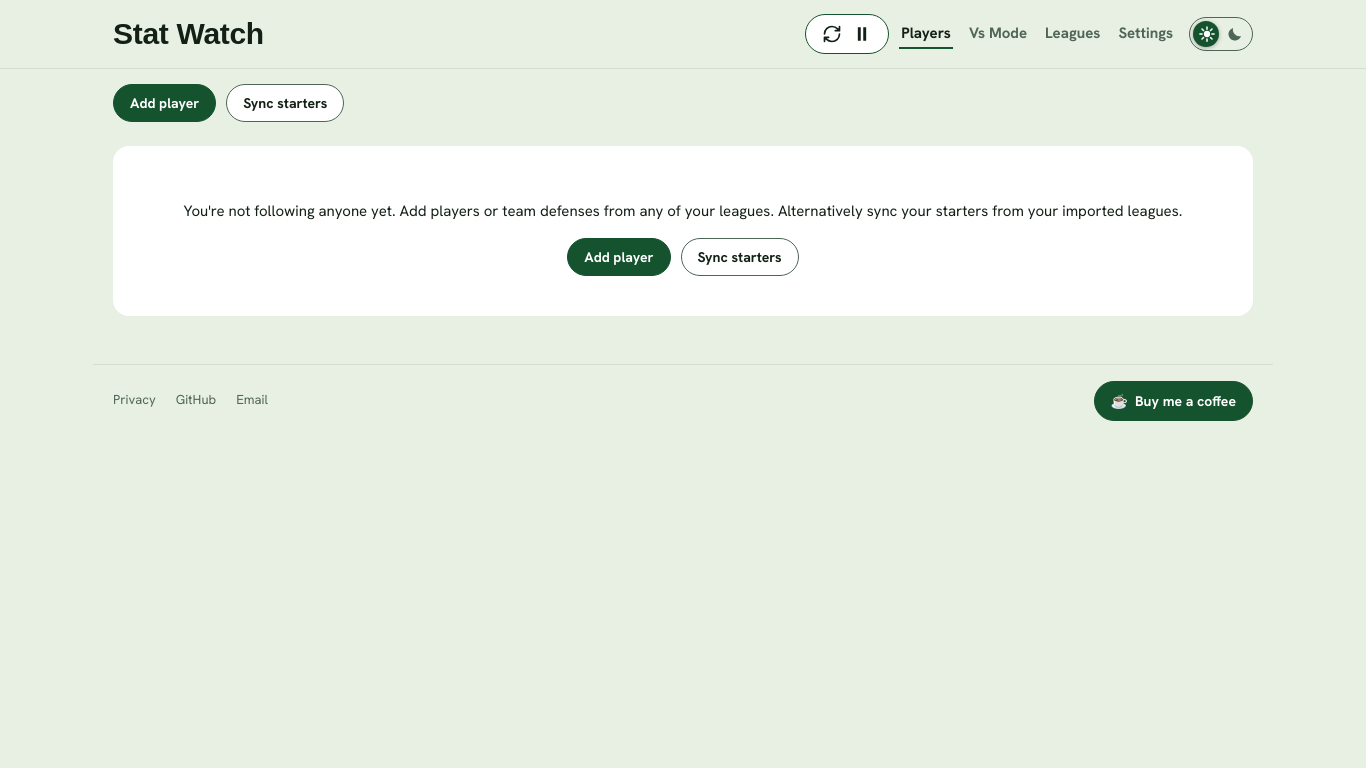
Test: with the mascot switched off, every page uses plain text › Players with leagues and nobody followed: the same sentence and both buttons, as plain text
Check: the element with class "empty" shows "You're not following anyone yet. Add players or team defenses from any of your leagues. Alternatively sync your starters from your imported leagues.", box [184,201,1182,221]
Click the 2nd button "Sync starters". click: (740, 257)
box: [680,238,799,276]
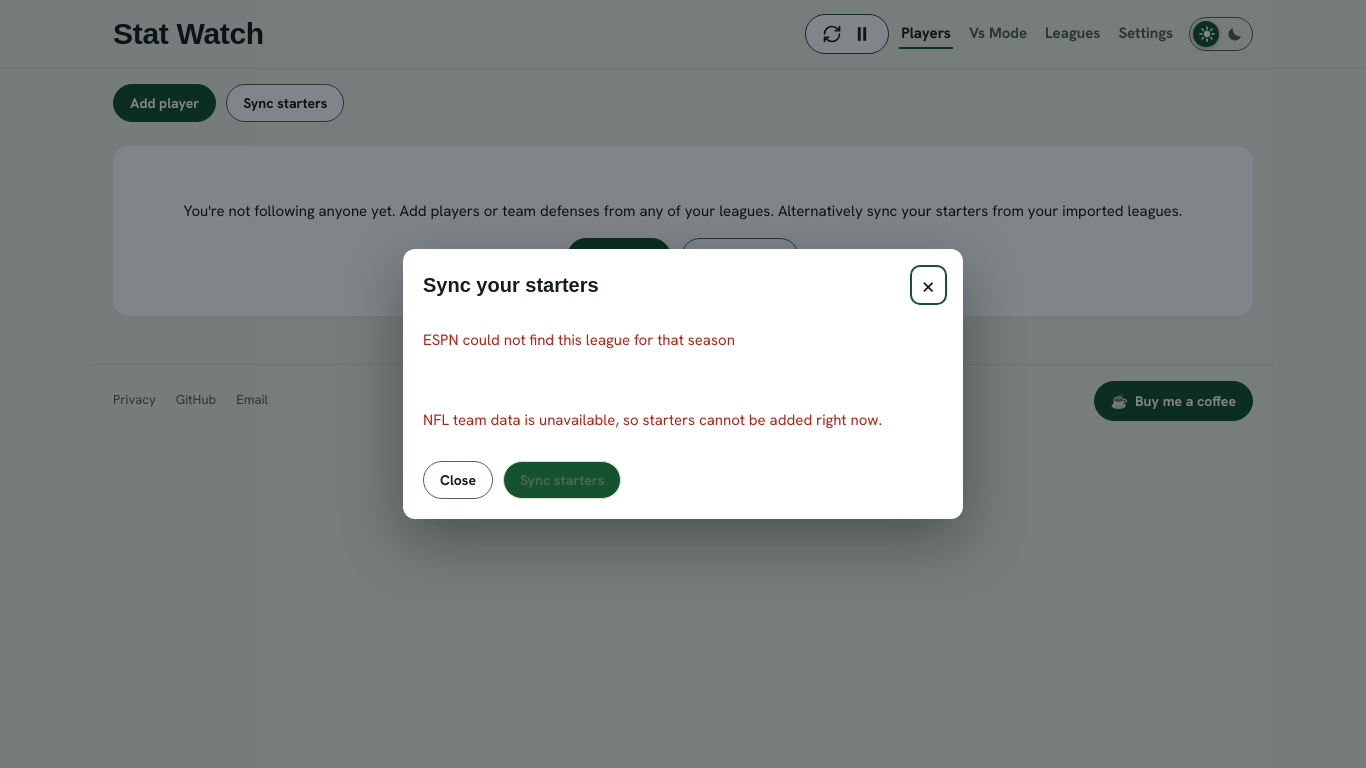
Check: the dialog "Sync your starters" is shown, box [403,249,963,519]
